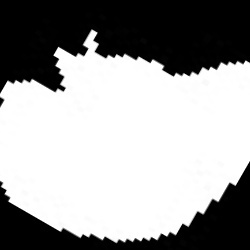spot: (1, 30, 248, 243)
